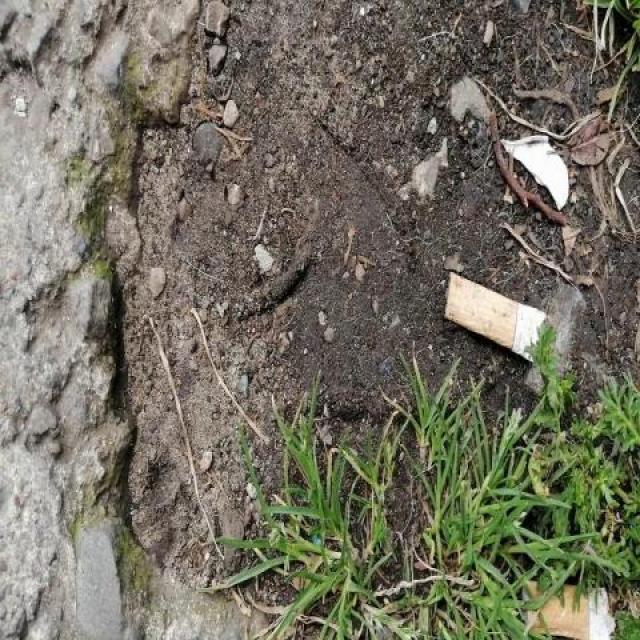non-organic waste: (438, 264, 551, 369), (516, 570, 620, 638)
